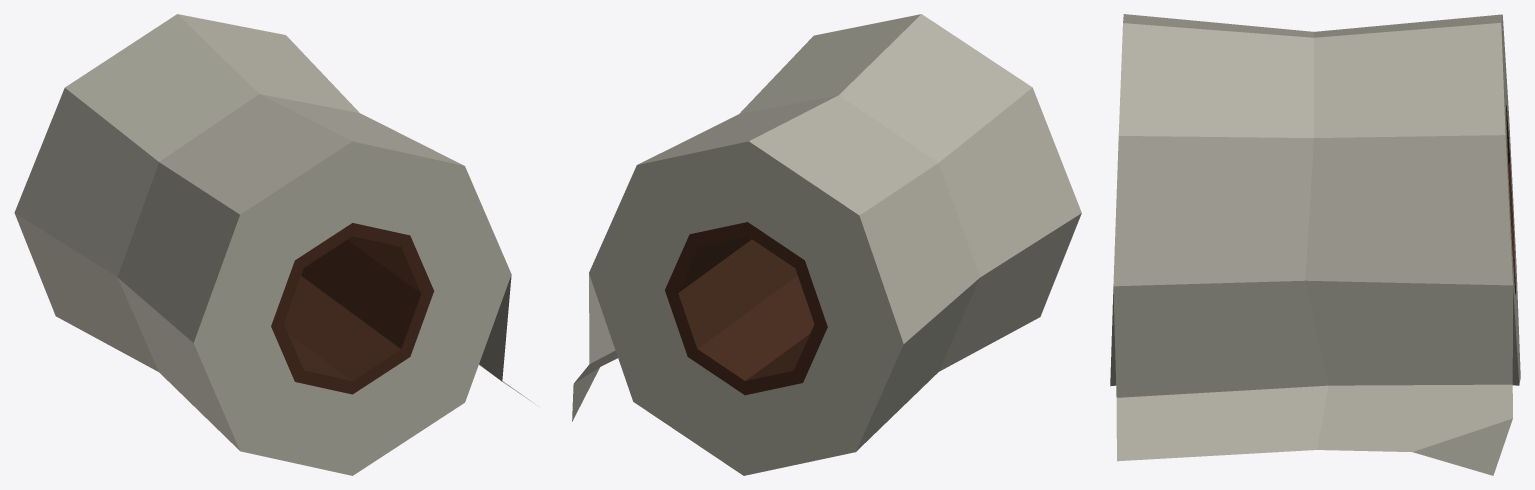
The model's file is toiletpaper.fbx.
The picture shows the model from 3 angles, left to right: view 1: azimuth 30°, elevation 25°; view 2: azimuth 150°, elevation 25°; view 3: azimuth 270°, elevation 25°; orthographic projection. The views are drawn at different scales.
Visible parts, largest first — view 1: Cylinder; view 2: Cylinder; view 3: Cylinder.
Boxes of the visible parts, x1=… form: Cylinder: x1=14, y1=14, x2=538, y2=475; Cylinder: x1=572, y1=14, x2=1081, y2=475; Cylinder: x1=1110, y1=14, x2=1520, y2=475.
Size of the model in its own units: 43.4 by 39.11 by 40.72.
